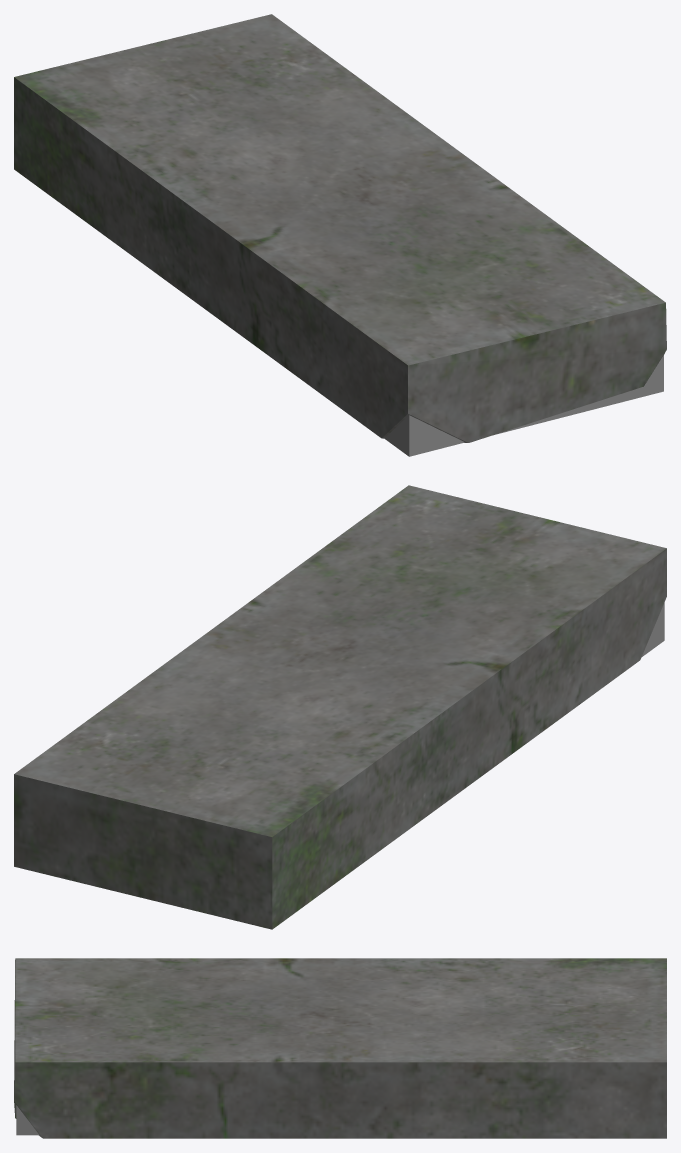
File: Scene_Rock_ShiTiao_1.fbx
3 renders of one model, top to bottom at view 1: azimuth 30°, elevation 25°; view 2: azimuth 150°, elevation 25°; view 3: azimuth 270°, elevation 25°, orthographic. The views are drawn at different scales.
Visible parts, largest first — view 1: Scene_Rock_ShiTiao_1, Scene_Rock_ShiTiao_1_Xzm; view 2: Scene_Rock_ShiTiao_1; view 3: Scene_Rock_ShiTiao_1, Scene_Rock_ShiTiao_1_Xzm.
Part boxes in pixels (x1=…): Scene_Rock_ShiTiao_1: x1=14, y1=14, x2=666, y2=442; Scene_Rock_ShiTiao_1_Xzm: x1=384, y1=355, x2=663, y2=456; Scene_Rock_ShiTiao_1: x1=14, y1=485, x2=666, y2=929; Scene_Rock_ShiTiao_1: x1=14, y1=958, x2=666, y2=1138; Scene_Rock_ShiTiao_1_Xzm: x1=16, y1=1105, x2=39, y2=1135.
Bounding box in the file's own units: 152 × 51.98 × 403.
